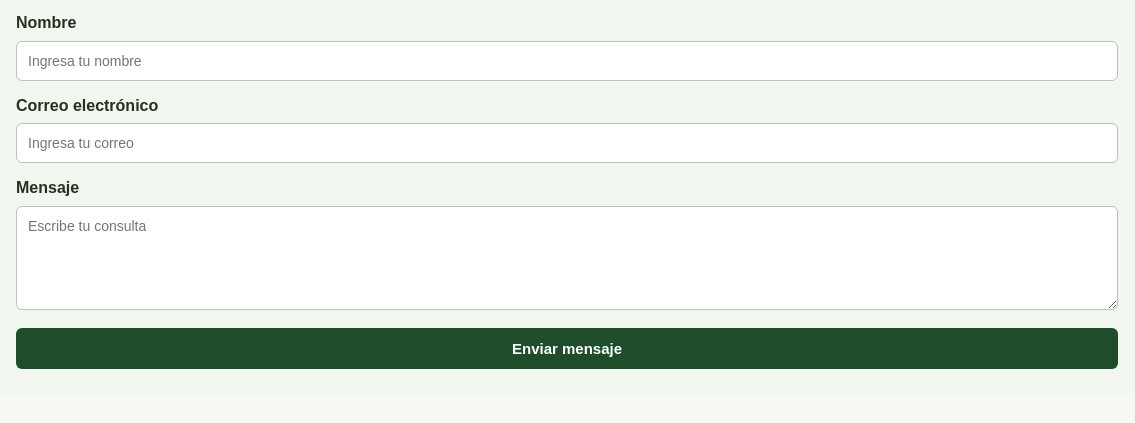
Test: Formulario de Contacto NutriVida › Rechaza un correo electrónico inválido
Step 1. Type "Ana" into the field labelled "Nombre" → (567, 61), box [16,41,1118,81]
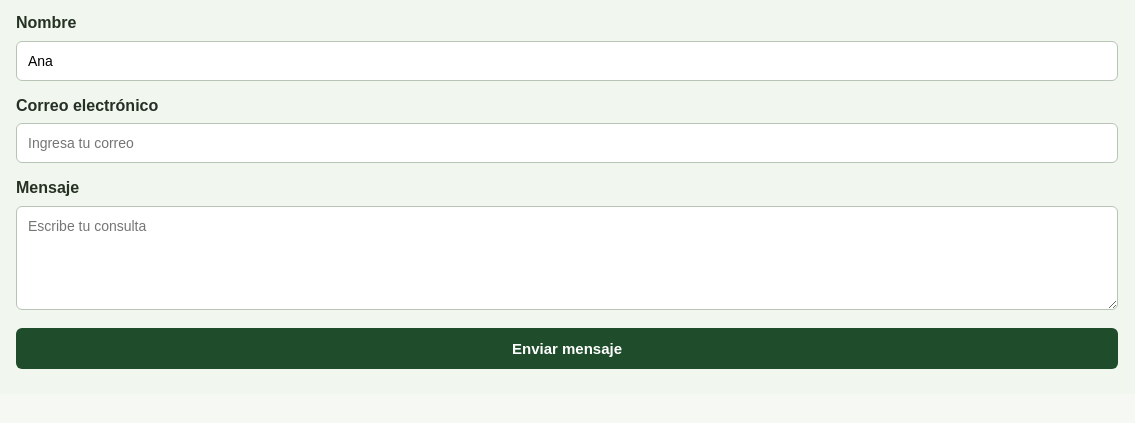
Step 2. Type "correo-invalido" into the field labelled "Correo electrónico" → (567, 143), box [16,123,1118,163]
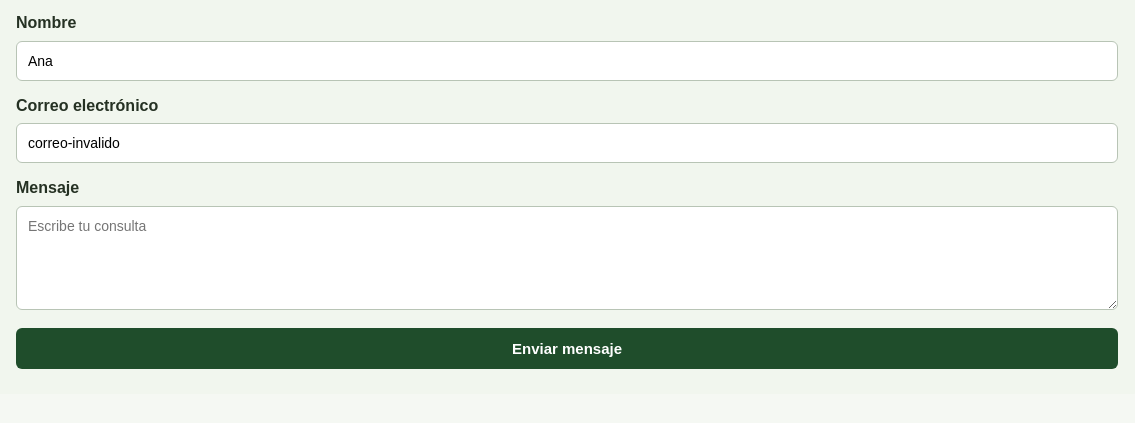
Step 3. Type "Quiero información" into the text box labelled "Mensaje" → (567, 258), box [16,206,1118,310]
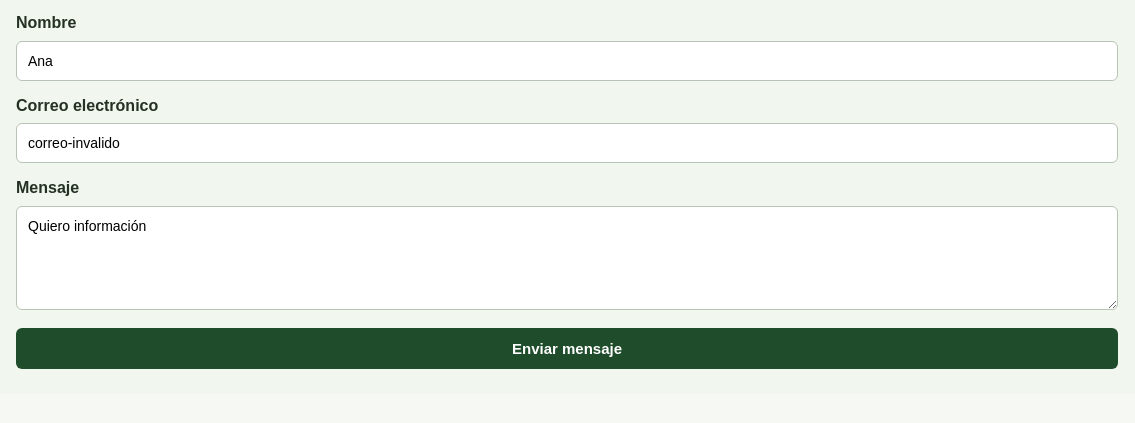
Step 4. Click the button "Enviar mensaje" → (567, 348), box [16,328,1118,369]
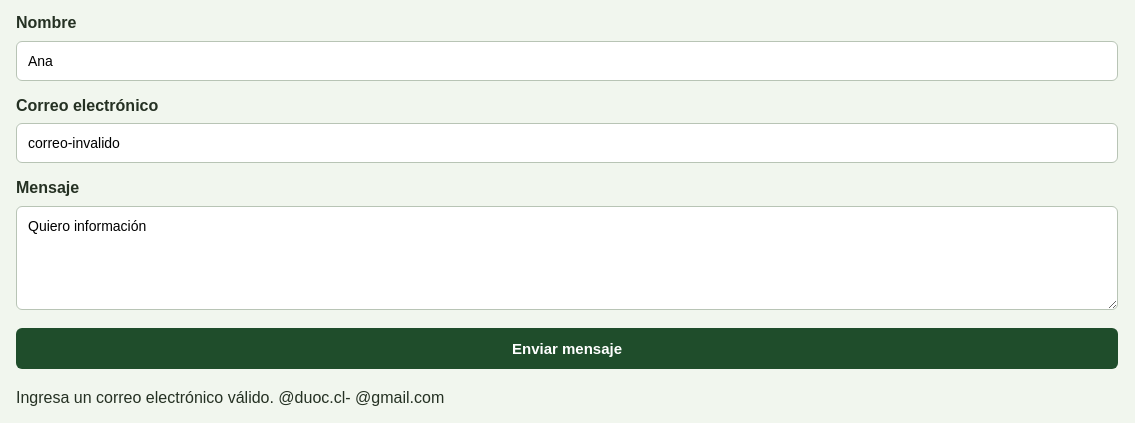
Check: the message shows "Ingresa un correo electrónico válido.", box [16,389,444,406]
